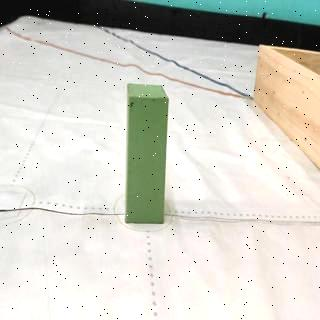greenbox: (124, 82, 172, 224)
